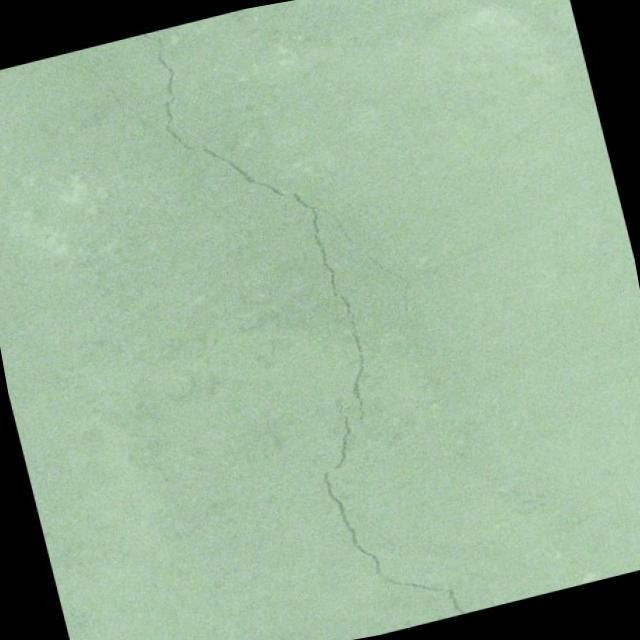crack: (139, 0, 554, 461), (304, 377, 469, 640), (75, 42, 127, 129)
